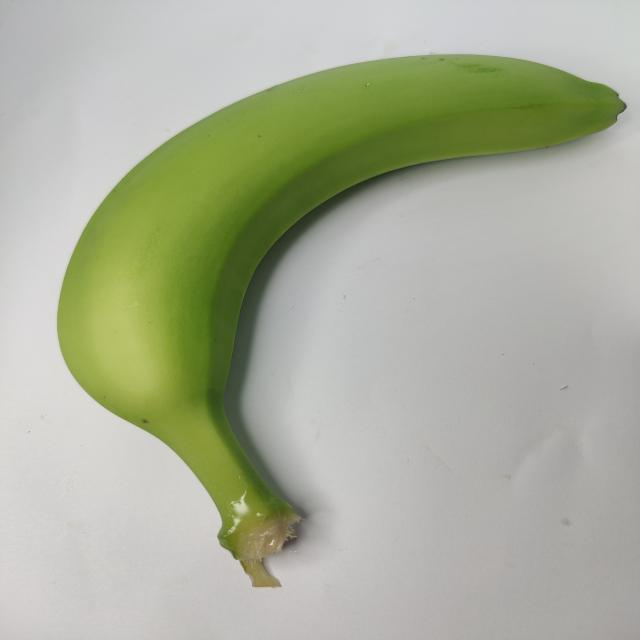Raw: (17, 16, 639, 604)
